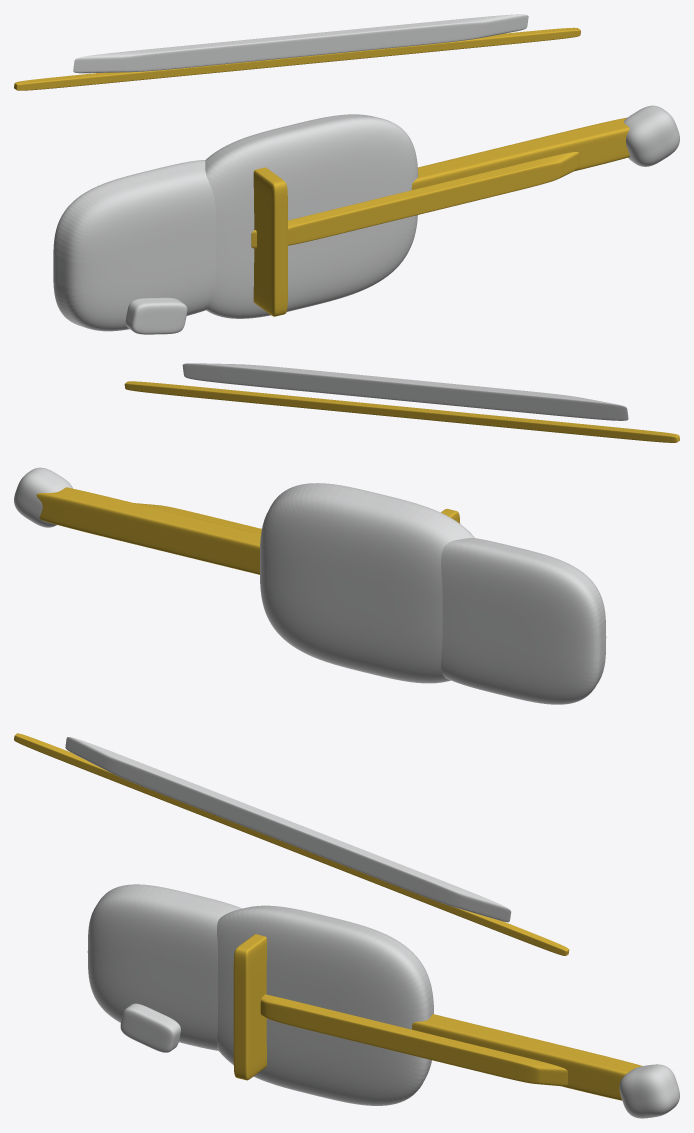
File: violin_with_bow_sq.glb
3 views of the same model, one above another, from view 1: azimuth 30°, elevation 25°; view 2: azimuth 150°, elevation 25°; view 3: azimuth 330°, elevation 25° (orthographic). The views are drawn at different scales.
Parts seen in each view (by area): view 1: superquadric_1, superquadric_0, superquadric_8, superquadric_4, superquadric_3, superquadric_7, superquadric_6, superquadric_5, superquadric_9; view 2: superquadric_1, superquadric_0, superquadric_8, superquadric_3, superquadric_7, superquadric_5, superquadric_4; view 3: superquadric_1, superquadric_0, superquadric_8, superquadric_4, superquadric_3, superquadric_7, superquadric_6, superquadric_5, superquadric_9.
Part boxes in pixels (x1=…): superquadric_1: x1=205, y1=114, x2=418, y2=318; superquadric_0: x1=53, y1=160, x2=216, y2=331; superquadric_8: x1=73, y1=14, x2=528, y2=73; superquadric_4: x1=251, y1=152, x2=579, y2=248; superquadric_3: x1=411, y1=117, x2=629, y2=189; superquadric_7: x1=14, y1=27, x2=580, y2=90; superquadric_6: x1=253, y1=167, x2=287, y2=316; superquadric_5: x1=624, y1=105, x2=679, y2=166; superquadric_9: x1=125, y1=297, x2=187, y2=334; superquadric_1: x1=260, y1=483, x2=474, y2=683; superquadric_0: x1=441, y1=538, x2=606, y2=704; superquadric_8: x1=182, y1=363, x2=628, y2=420; superquadric_3: x1=36, y1=487, x2=260, y2=574; superquadric_7: x1=124, y1=381, x2=679, y2=442; superquadric_5: x1=14, y1=467, x2=72, y2=527; superquadric_4: x1=134, y1=503, x2=261, y2=533; superquadric_1: x1=217, y1=905, x2=433, y2=1105; superquadric_0: x1=87, y1=884, x2=241, y2=1050; superquadric_8: x1=65, y1=737, x2=511, y2=922; superquadric_4: x1=260, y1=994, x2=567, y2=1086; superquadric_3: x1=412, y1=1014, x2=642, y2=1100; superquadric_7: x1=14, y1=733, x2=569, y2=955; superquadric_6: x1=233, y1=934, x2=266, y2=1080; superquadric_5: x1=619, y1=1064, x2=679, y2=1118; superquadric_9: x1=120, y1=1003, x2=180, y2=1052.
Size of the model in its own units: 1 by 0.4538 by 0.1252.
